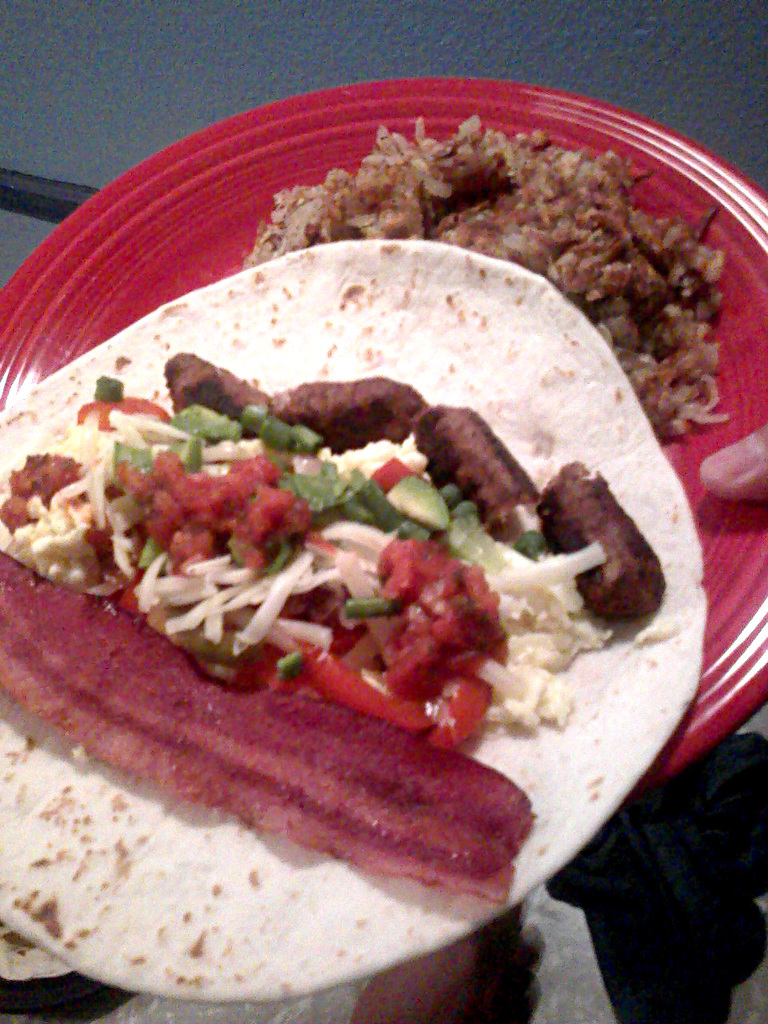taco: (0, 238, 709, 1004)
